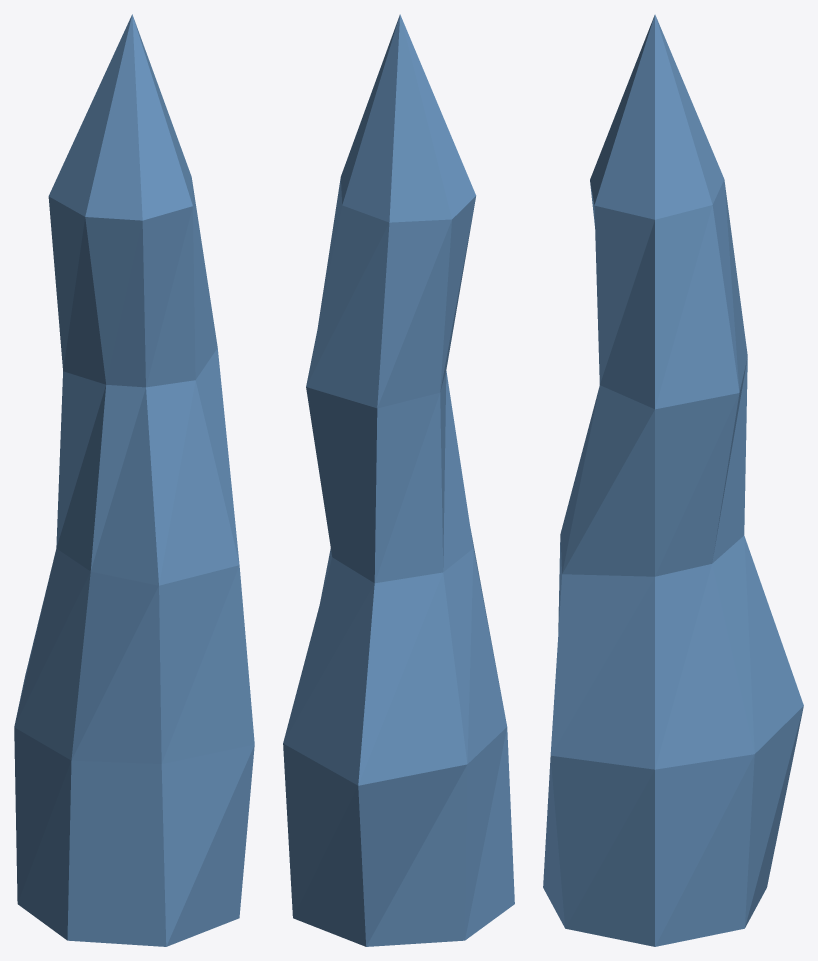
Rendered from IceDart.FBX.
3 renders of one model, left to right at view 1: azimuth 30°, elevation 25°; view 2: azimuth 150°, elevation 25°; view 3: azimuth 270°, elevation 25°, orthographic.
Parts seen in each view (by area): view 1: IceDart; view 2: IceDart; view 3: IceDart.
Boxes of the visible parts, left/top/right/bottom form: IceDart: left=14, top=14, right=254, bottom=946; IceDart: left=283, top=14, right=514, bottom=946; IceDart: left=543, top=14, right=803, bottom=946.
Bounding box in the file's own units: 3.95 × 17.38 × 4.65.
